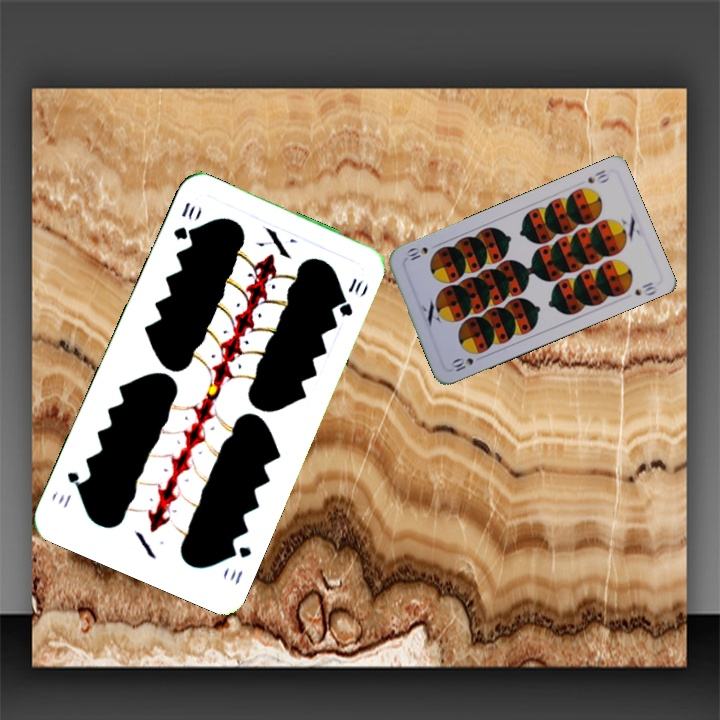G10: (224, 541, 254, 587), (169, 198, 197, 243)
S10: (447, 352, 486, 374), (583, 166, 612, 186)
